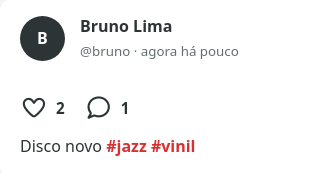
PostCard › toggles the like using the count returned by the API
Click the button named "Curtir" at (42, 108), box [20, 97, 65, 119]
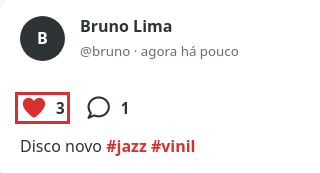
Now the text "3" is shown, box [56, 98, 65, 118]
